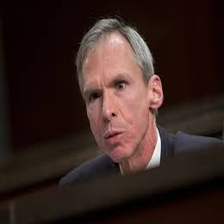no_mask: (81, 50, 149, 156)
